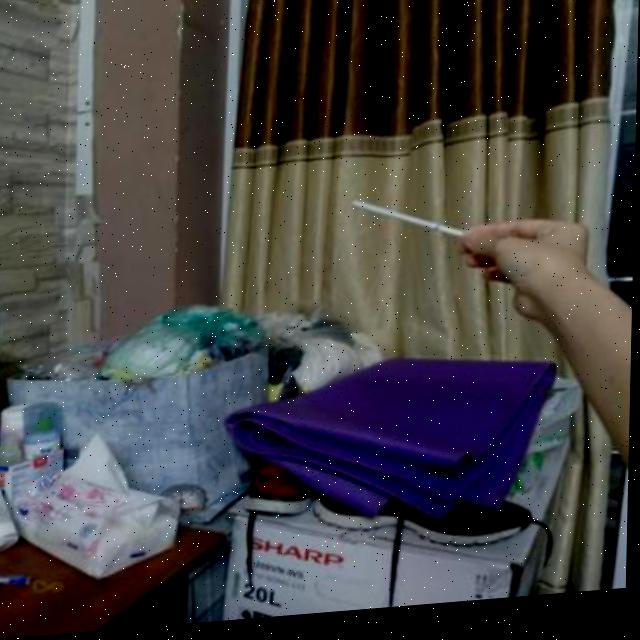cigarette: (353, 197, 469, 254)
